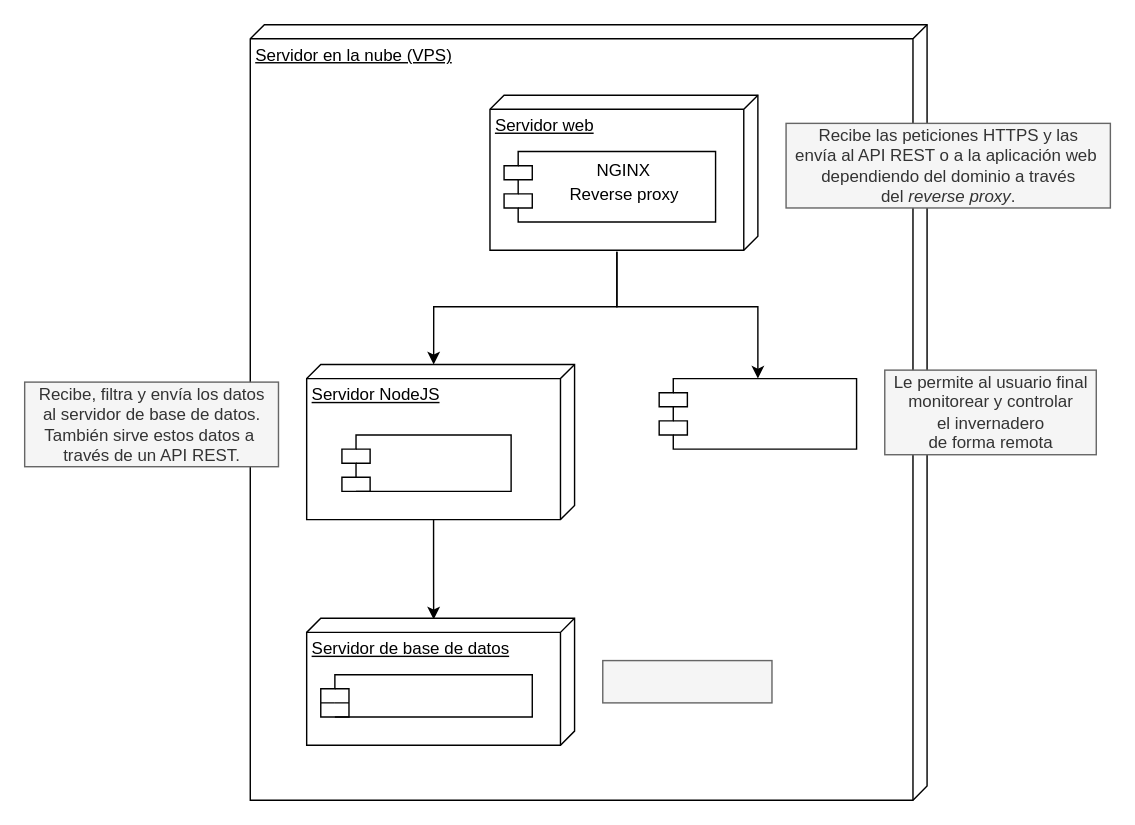
Some shapes in this 1135 by 825 pixel diagram are drawn without their labels. Here are the shapes that lost their labels. From the top down, the centre of each, then its label:
At pixel 757 413: "Aplicación web".
At pixel 426 462: "API REST".
At pixel 425 695: "MongoDB".
At pixel 686 681: "Almacena los datos de los sensores".
